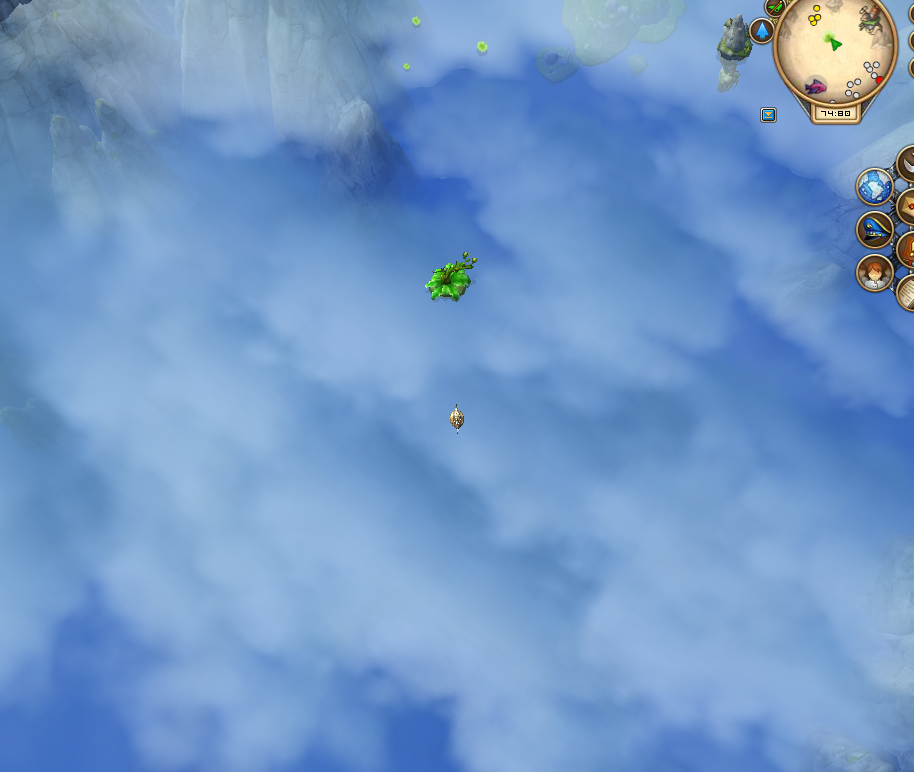dandelion-empty: (423, 249, 481, 304)
fluff: (473, 37, 490, 57), (409, 12, 423, 29), (401, 59, 412, 72)
